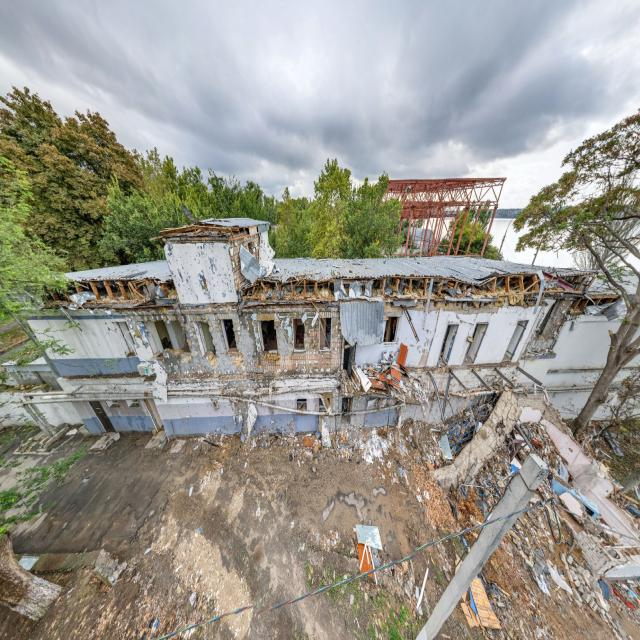broken_window: (196, 318, 216, 358), (258, 318, 277, 353), (221, 318, 238, 352), (292, 317, 305, 352), (319, 316, 331, 350)
building: (1, 215, 638, 442)
